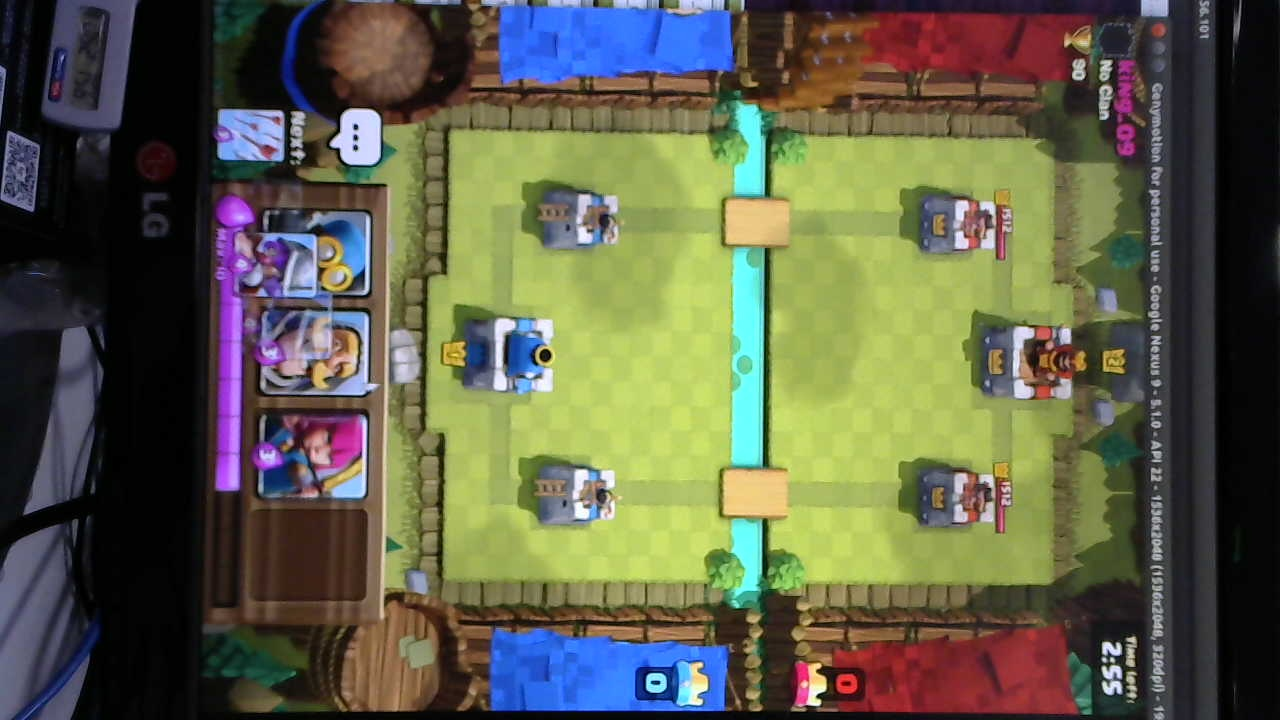arena: (537, 189, 621, 249), (544, 466, 621, 525)
earena: (917, 470, 1000, 530), (919, 197, 998, 258)
eking: (980, 321, 1088, 400)
king: (466, 312, 561, 396)
